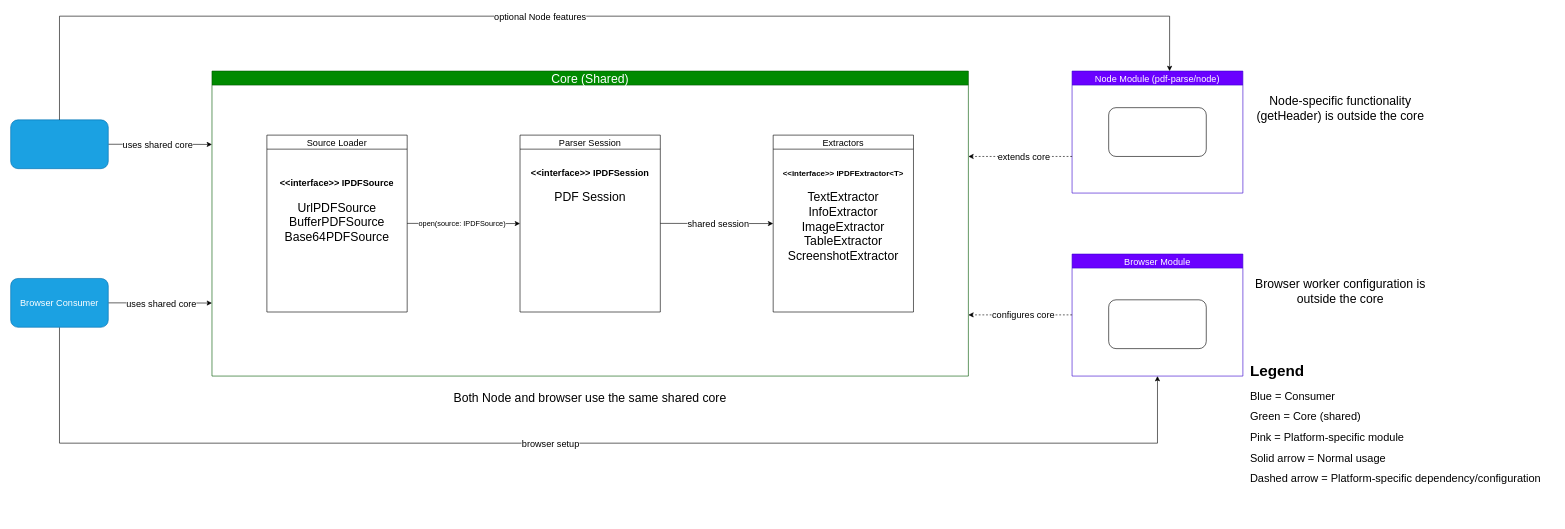
Some shapes in this 1565 by 529 pixel diagram are drawn without their labels. The shapes that lost their labels are listed below. From the top down, each one's centre as x and y in pixels, then its label:
At pixel 59 144: "Node Consumer".
At pixel 1157 131: "getHeader()".
At pixel 1157 324: "worker config".
